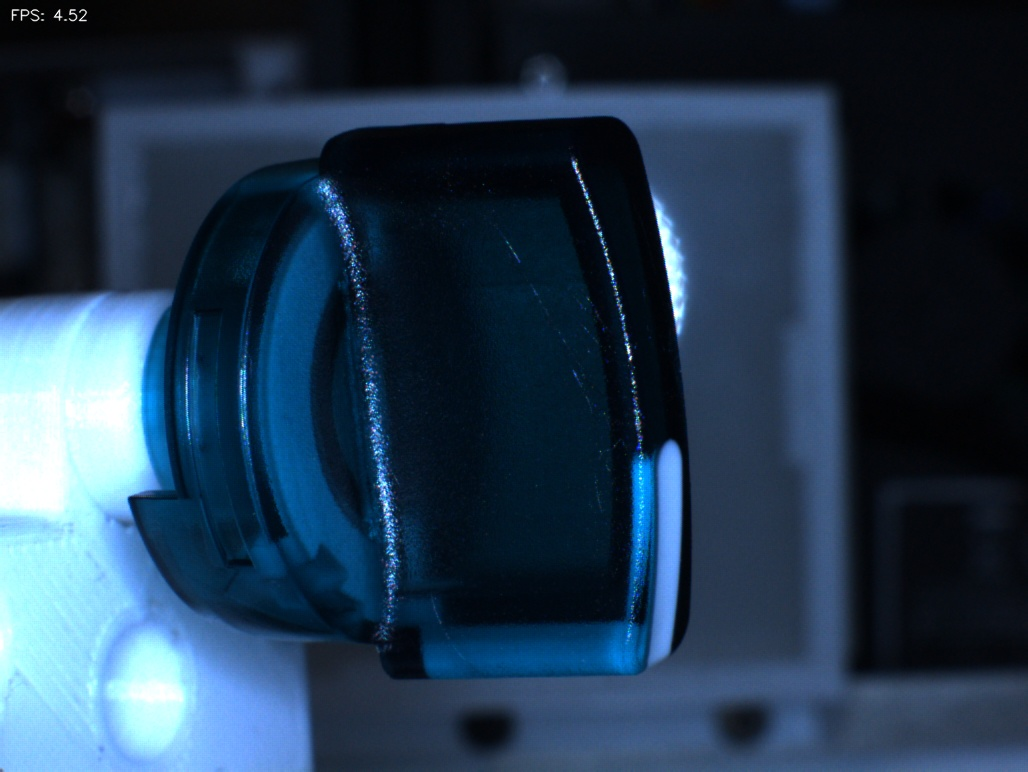Givrage: (496, 235, 640, 473)
